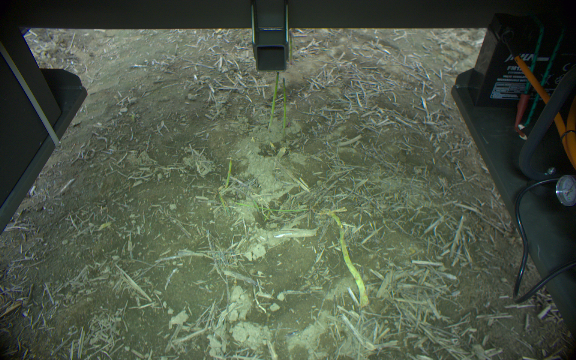aspa: (318, 205, 370, 308), (263, 70, 279, 137), (279, 76, 287, 138), (223, 156, 235, 189), (288, 29, 295, 65)
